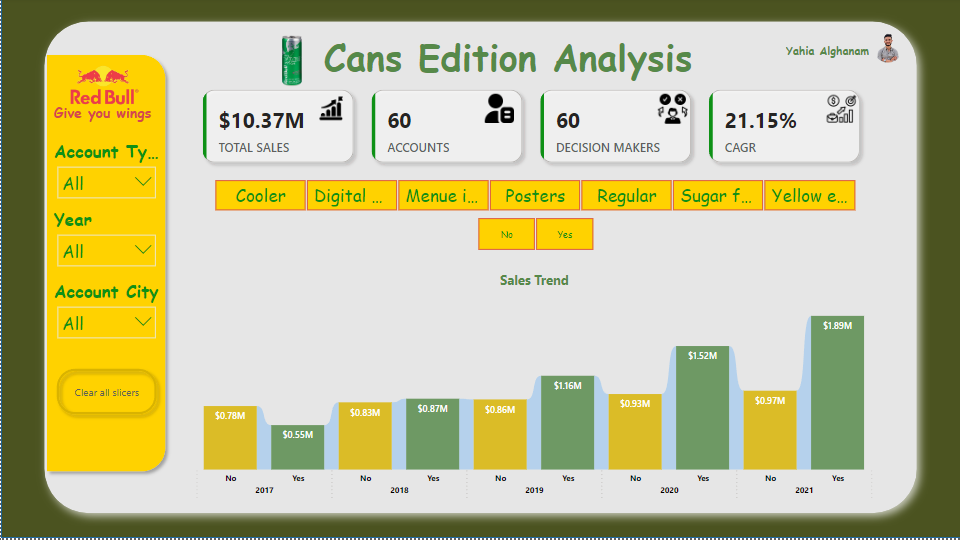

The page's visual inventory and layout, read from the dashboard file:
{"tool":"powerbi","page":{"name":"Cans Edition Analysis","canvas":[1280,720],"ordinal":1},"visuals":[{"type":"shape","box":[0,0,1280,719.8],"z":0},{"type":"shape","box":[40,13.8,1198.8,691.2],"z":1000},{"type":"shape","box":[52.5,66.2,176.2,573.8],"z":2000},{"type":"image","box":[75,61.2,126.2,108.8],"z":3000},{"type":"textbox","box":[65,133.8,151.2,38.8],"z":4000},{"type":"slicer","title":"Account Type ","fields":{"Values":["Account_info.Account type"]},"box":[65,187.5,151.2,87.5],"z":5000},{"type":"textbox","box":[425,38.8,563.8,77.5],"z":6000},{"type":"cardVisual","fields":{"Data":["Sum(Account_info.Sales)","Account_info.Number of Accounts","Account_info.Number of decision makers","Account_info.CAGR"]},"box":[252.5,105,910,131.2],"z":7000},{"type":"columnChart","title":"Sales Trend","fields":{"Category":["Account_info.Years ","Account_info.Status"],"Y":["Sum(Account_info.Sales)"]},"box":[228.8,363.8,963.8,313.8],"z":8000},{"type":"slicer","title":"Account City ","fields":{"Values":["Account_info.Account City"]},"box":[65,375,151.2,96.2],"z":9000},{"type":"image","box":[1095,122.5,51.2,50],"z":10000},{"type":"image","box":[415,122.5,51.2,48.8],"z":11000},{"type":"image","box":[870,122.5,50,50],"z":12000},{"type":"image","box":[640,122.5,48.8,48.8],"z":13000},{"type":"actionButton","box":[65,485,151.2,78.8],"z":14000},{"type":"slicer","title":"Year ","fields":{"Values":["Account_info.Attribute"]},"box":[65,278.8,151.2,96.2],"z":15000},{"type":"slicer","title":"Year ","fields":{"Values":["Account_info.Status"]},"box":[610,286.2,202.5,56.2],"z":16000},{"type":"slicer","title":"Year ","fields":{"Values":["Account_info.Edition"]},"box":[260,236.2,902.5,50],"z":17000},{"type":"image","box":[336.2,45,105,77.5],"z":18000},{"type":"textbox","box":[1041.2,55,141.2,40],"z":19000},{"type":"image","box":[1146.2,37.5,71.2,57.5],"z":20000}]}

Visuals, with their boxes in screenshot pixels (x1, y1, x2, y2), scaled from the page's 1280x720 canvas onto the 960x540 screenshot:
shape: 0/0/959/539
shape: 30/10/929/529
shape: 39/50/172/480
image: 56/46/151/128
textbox: 49/100/162/129
"Account Type " slicer: 49/141/162/206
textbox: 319/29/742/87
cardVisual - Sum(Account_info.Sales) x Account_info.Number of Accounts: 189/79/872/177
"Sales Trend" columnChart: 172/273/894/508
"Account City " slicer: 49/281/162/353
image: 821/92/860/129
image: 311/92/350/128
image: 652/92/690/129
image: 480/92/517/128
actionButton: 49/364/162/423
"Year " slicer: 49/209/162/281
"Year " slicer: 458/215/609/257
"Year " slicer: 195/177/872/215
image: 252/34/331/92
textbox: 781/41/887/71
image: 860/28/913/71
